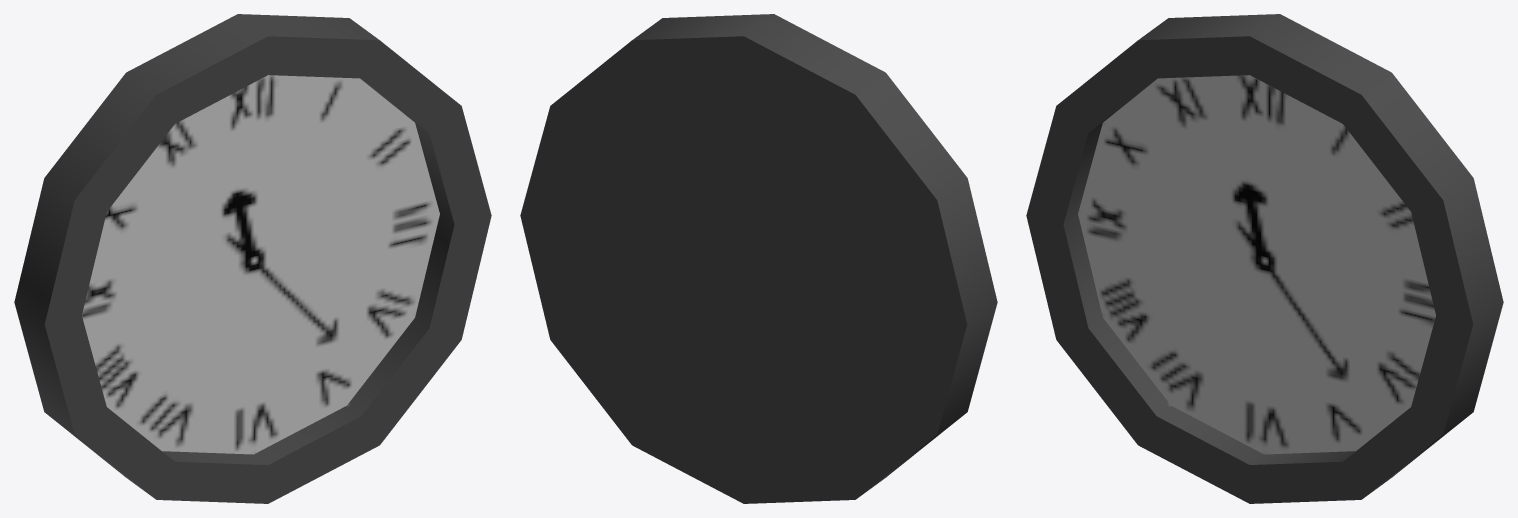
File: clock.fbx
3 renders of one model, left to right at view 1: azimuth 30°, elevation 25°; view 2: azimuth 150°, elevation 25°; view 3: azimuth 330°, elevation 25°, orthographic.
Parts seen in each view (by area): view 1: polySurface608; view 2: polySurface608; view 3: polySurface608.
Part boxes in pixels (box(x1,y1,x2,y2)): polySurface608: box(14, 14, 491, 503); polySurface608: box(520, 14, 997, 503); polySurface608: box(1026, 14, 1503, 503).
Bounding box in the file's own units: 0.7609 × 0.7609 × 0.0896.
1 material, 1 textured.
